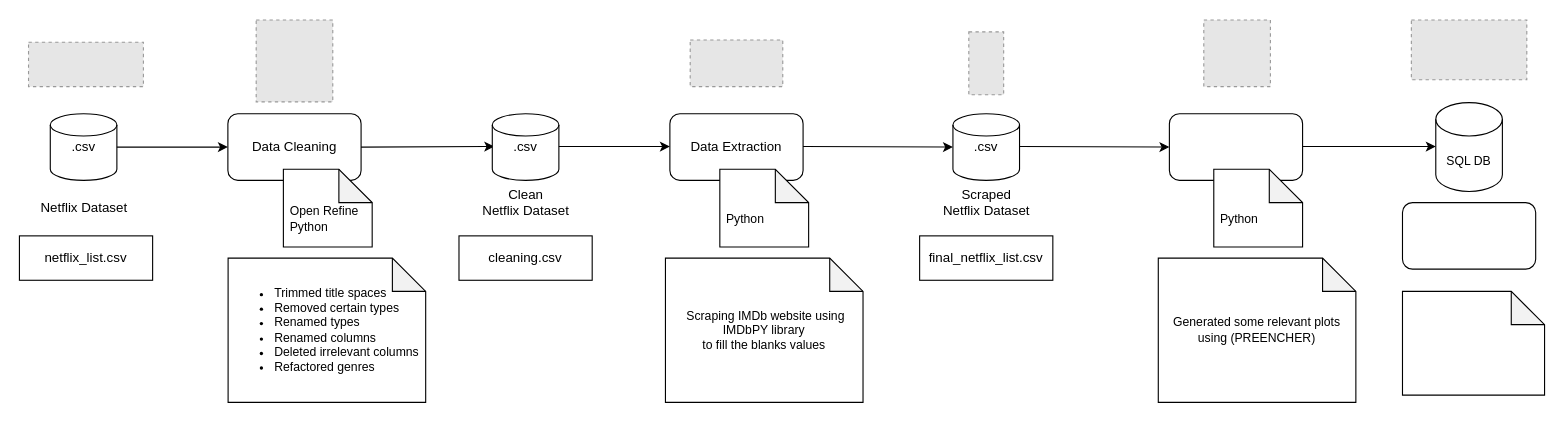
Some shapes in this 1564 by 422 pixel diagram are drawn without their labels. Grey dashed boxes stand in for pictures. Each missing label, with the centre of its shape:
"Data Exploration" goes at pixel 1235 146.
"Data Storage" goes at pixel 1468 235.
"Stored the cleaned data in a MySQL database" goes at pixel 1473 342.
